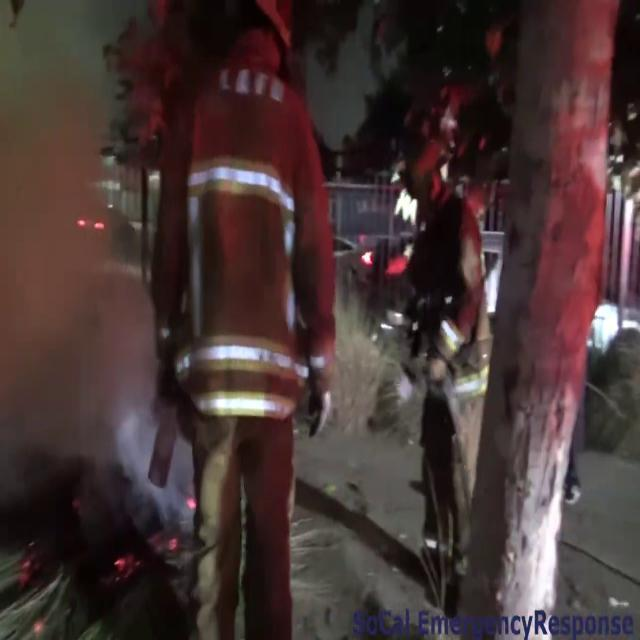Smoke: (0, 0, 171, 558)
